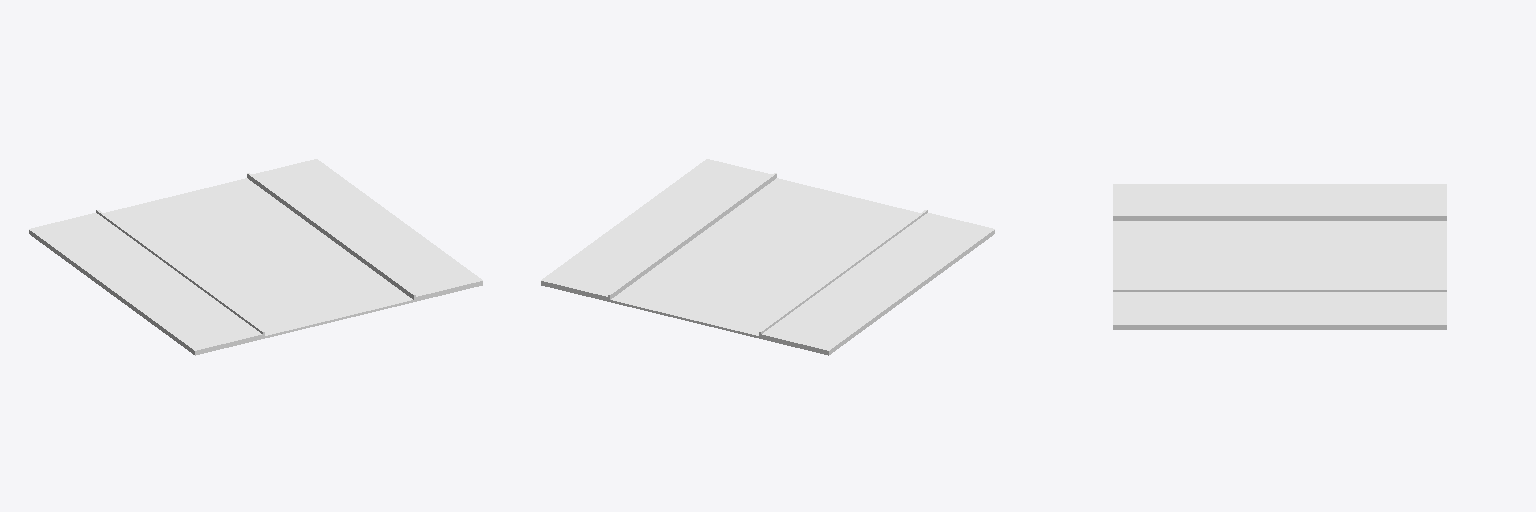
The model's file is GDS2_Flooring-11.obj.
The picture shows the model from 3 angles: view 1: azimuth 30°, elevation 25°; view 2: azimuth 150°, elevation 25°; view 3: azimuth 270°, elevation 25°; orthographic projection.
Visible parts, largest first — view 1: GDS2_Flooring-11; view 2: GDS2_Flooring-11; view 3: GDS2_Flooring-11.
Part boxes in pixels (x1,y1,x2,y2): GDS2_Flooring-11: (29,159,482,355); GDS2_Flooring-11: (541,159,994,355); GDS2_Flooring-11: (1113,184,1446,329).
Bounding box in the file's own units: 12.8 × 0.3 × 12.8.